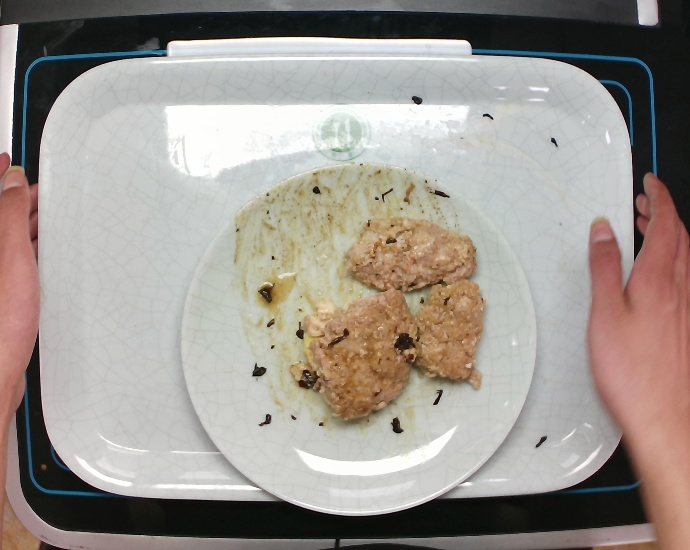JYsf-Da_Yuan_Pan: (176, 160, 538, 518)
